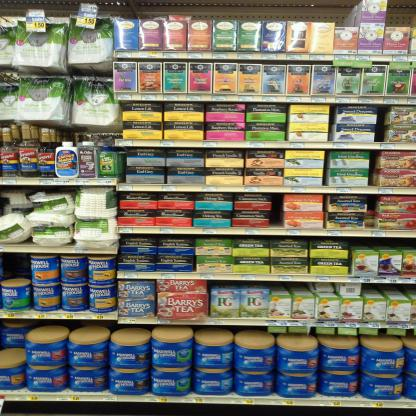Void: (364, 286, 416, 301), (3, 255, 29, 279)
